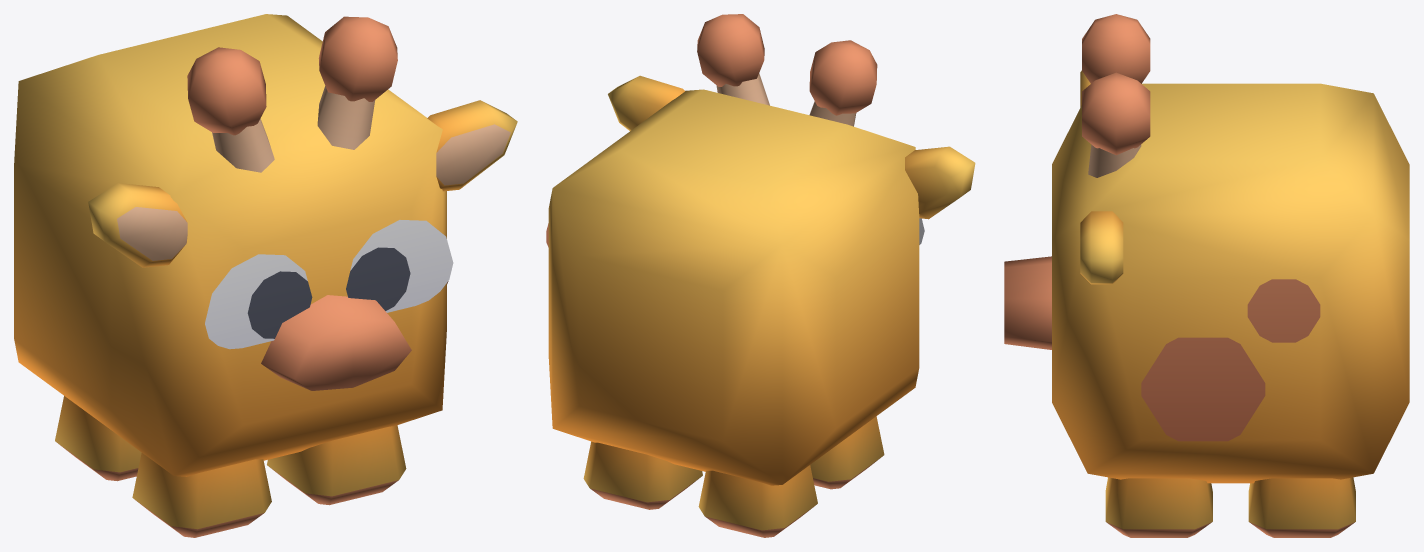
The model's file is animal-giraffe.glb.
3 renders of one model, left to right at view 1: azimuth 30°, elevation 25°; view 2: azimuth 150°, elevation 25°; view 3: azimuth 270°, elevation 25°, orthographic. The views are drawn at different scales.
Visible parts, largest first — view 1: animal-giraffe; view 2: animal-giraffe; view 3: animal-giraffe.
Boxes of the visible parts, bbox=[...] form: animal-giraffe: bbox=[14, 14, 517, 537]; animal-giraffe: bbox=[546, 14, 975, 537]; animal-giraffe: bbox=[1004, 14, 1409, 537].
Bounding box in the file's own units: 1.56 × 1.71 × 1.42.
1 material, 1 textured.
